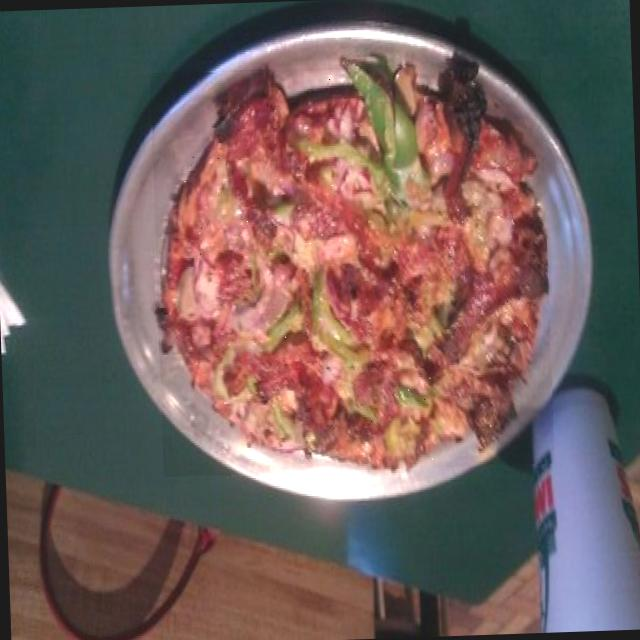pizza: (158, 66, 546, 468)
